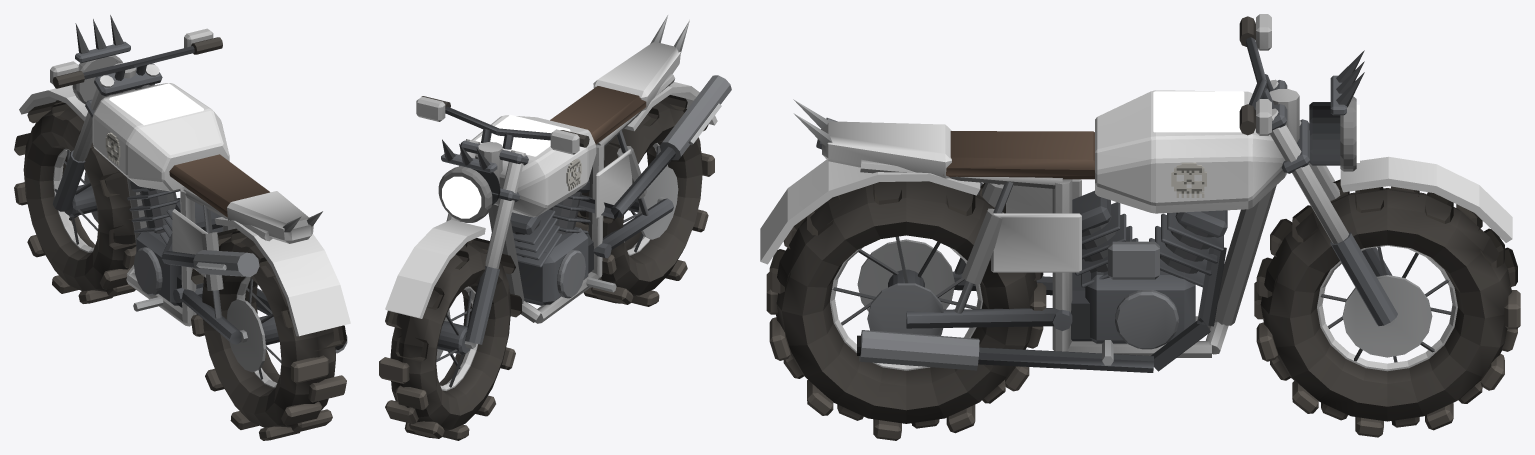
Rendered from wasteland_motorbike.glb.
3 renders of one model, left to right at view 1: azimuth 30°, elevation 25°; view 2: azimuth 150°, elevation 25°; view 3: azimuth 270°, elevation 25°, orthographic. The views are drawn at different scales.
Visible parts, largest first — view 1: Neutral, Accent, Lamp; view 2: Neutral, Accent, Lamp; view 3: Neutral, Accent, Lamp.
Boxes of the visible parts, left/top/right/bottom form: Neutral: left=14, top=15, right=347, bottom=440; Accent: left=19, top=28, right=350, bottom=388; Lamp: left=109, top=83, right=203, bottom=125; Neutral: left=379, top=15, right=731, bottom=440; Accent: left=385, top=42, right=717, bottom=390; Lamp: left=442, top=114, right=570, bottom=218; Neutral: left=766, top=16, right=1520, bottom=440; Accent: left=760, top=14, right=1512, bottom=371; Lamp: left=1153, top=91, right=1359, bottom=162.
Size of the model in its own units: 0.76 by 1.24 by 2.34.
